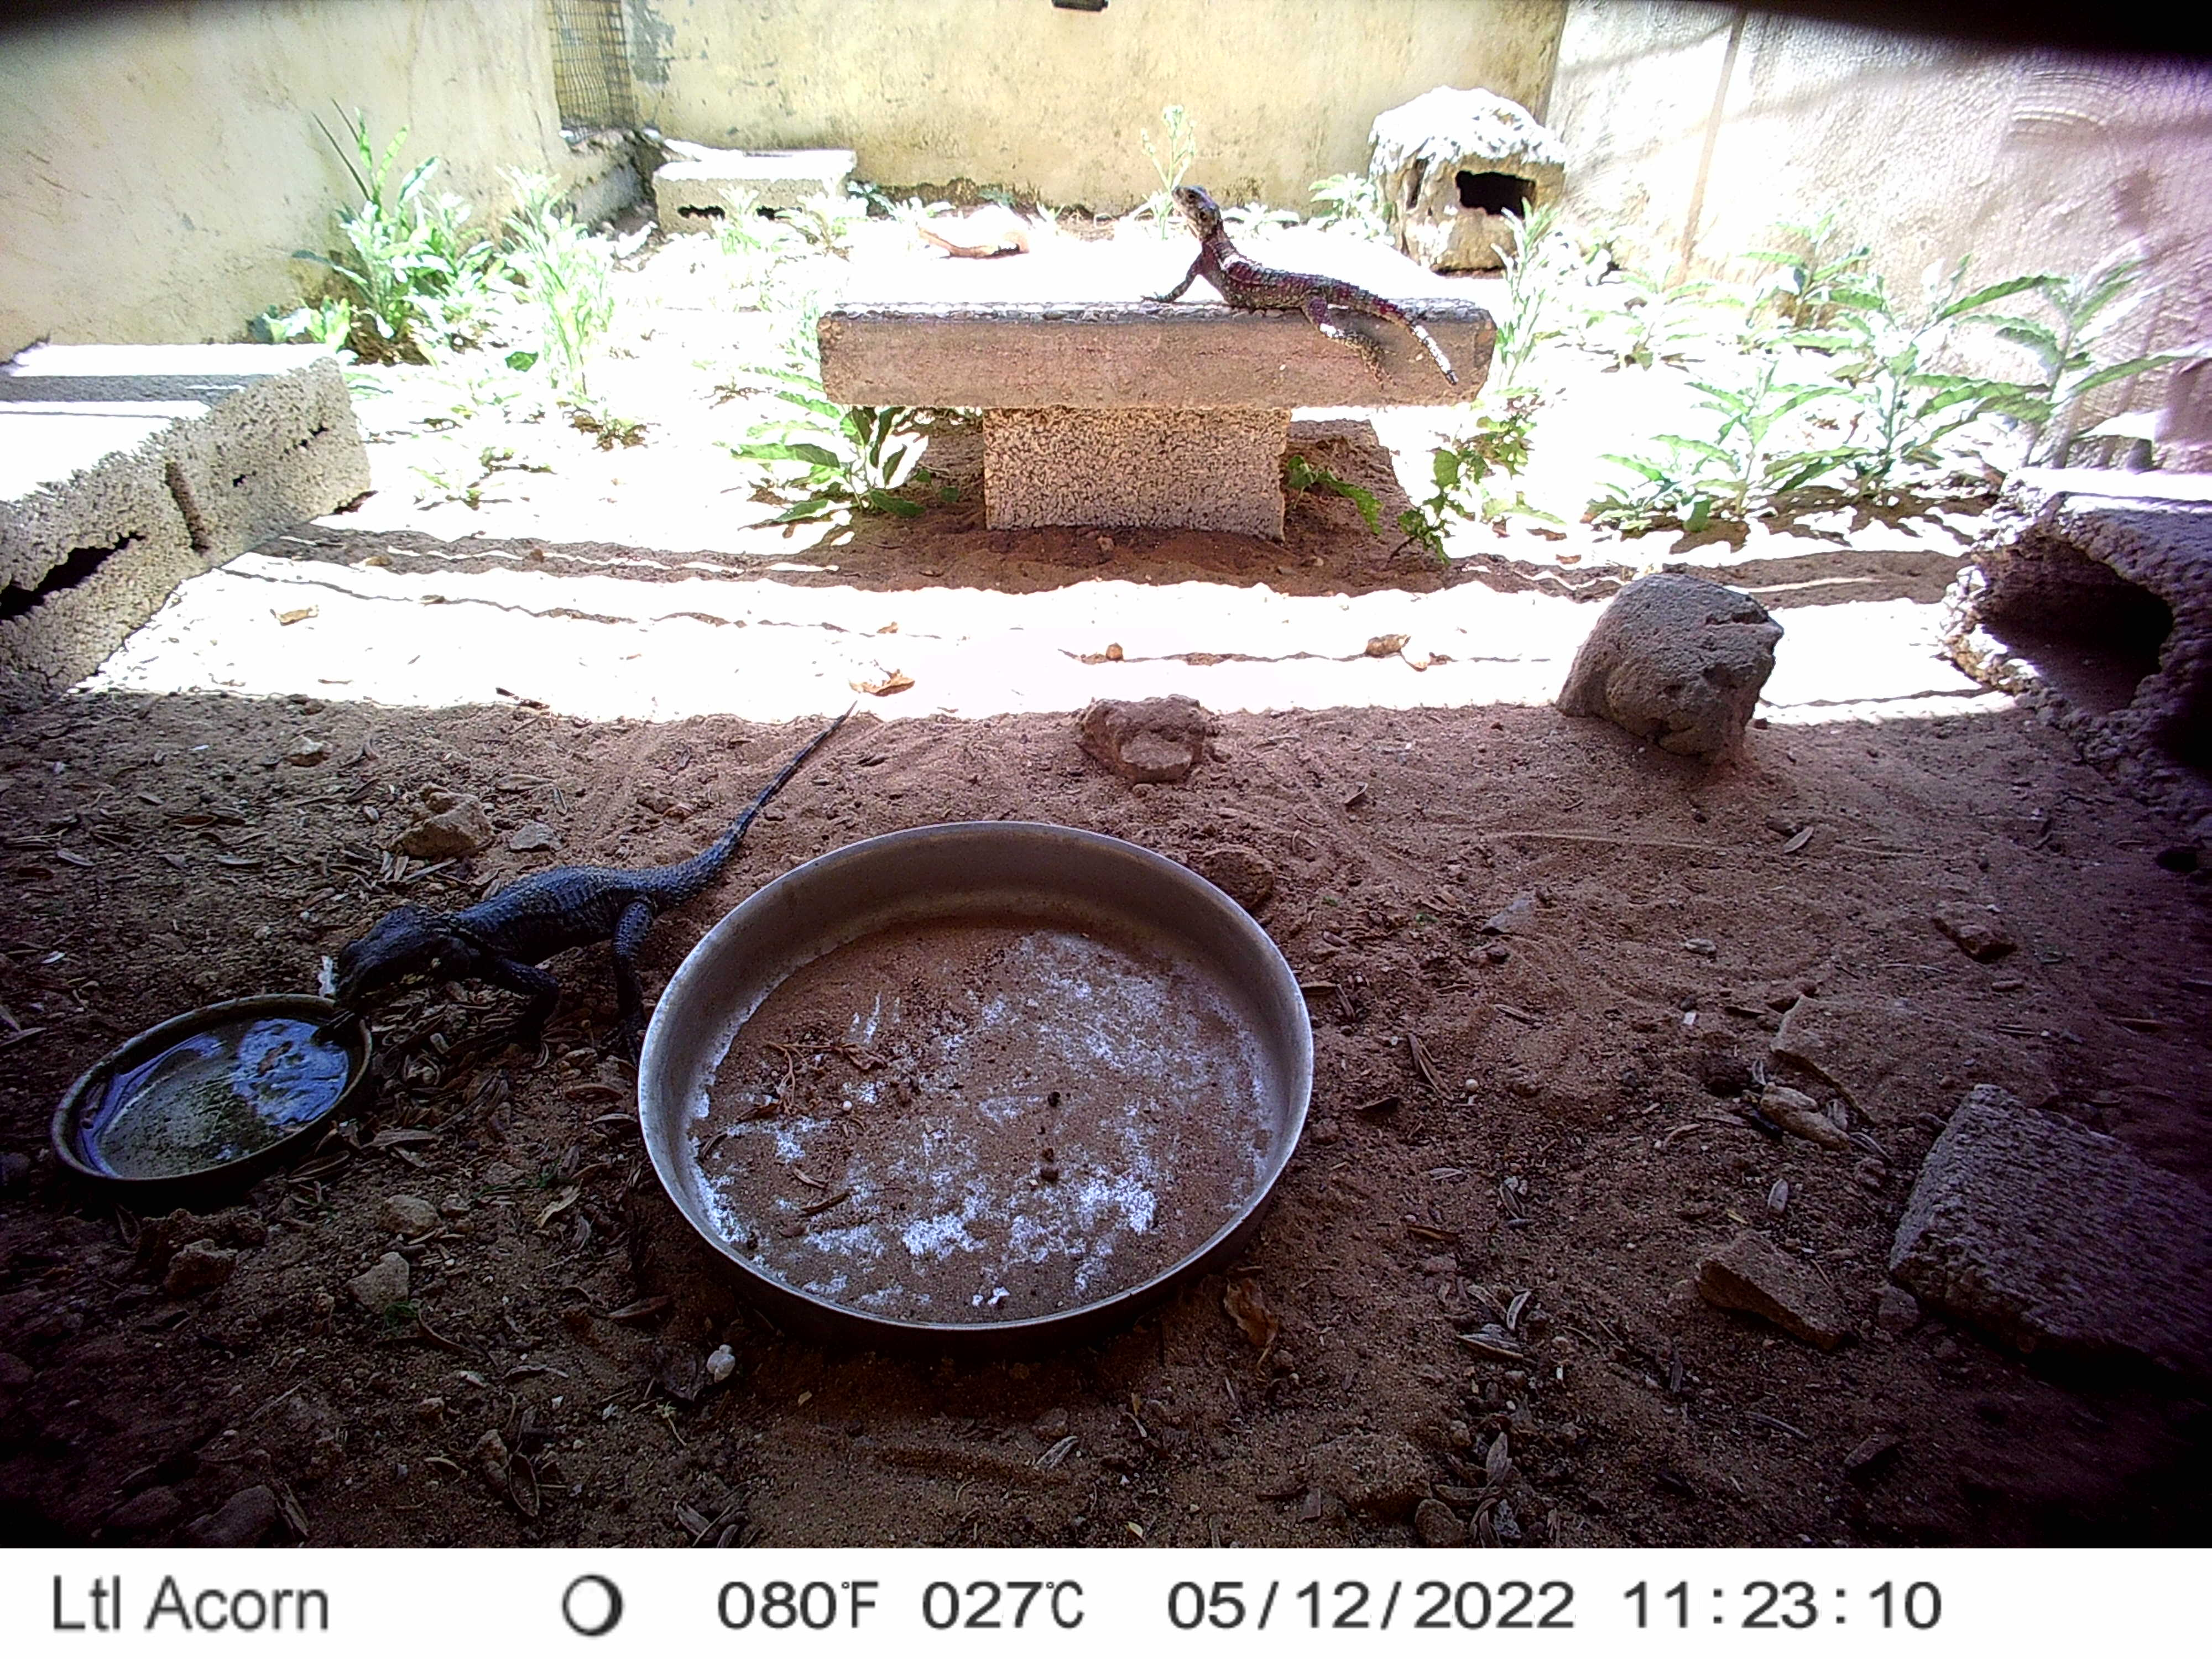lizard: (317, 709, 853, 1094), (1151, 181, 1479, 389), (641, 127, 796, 167)
